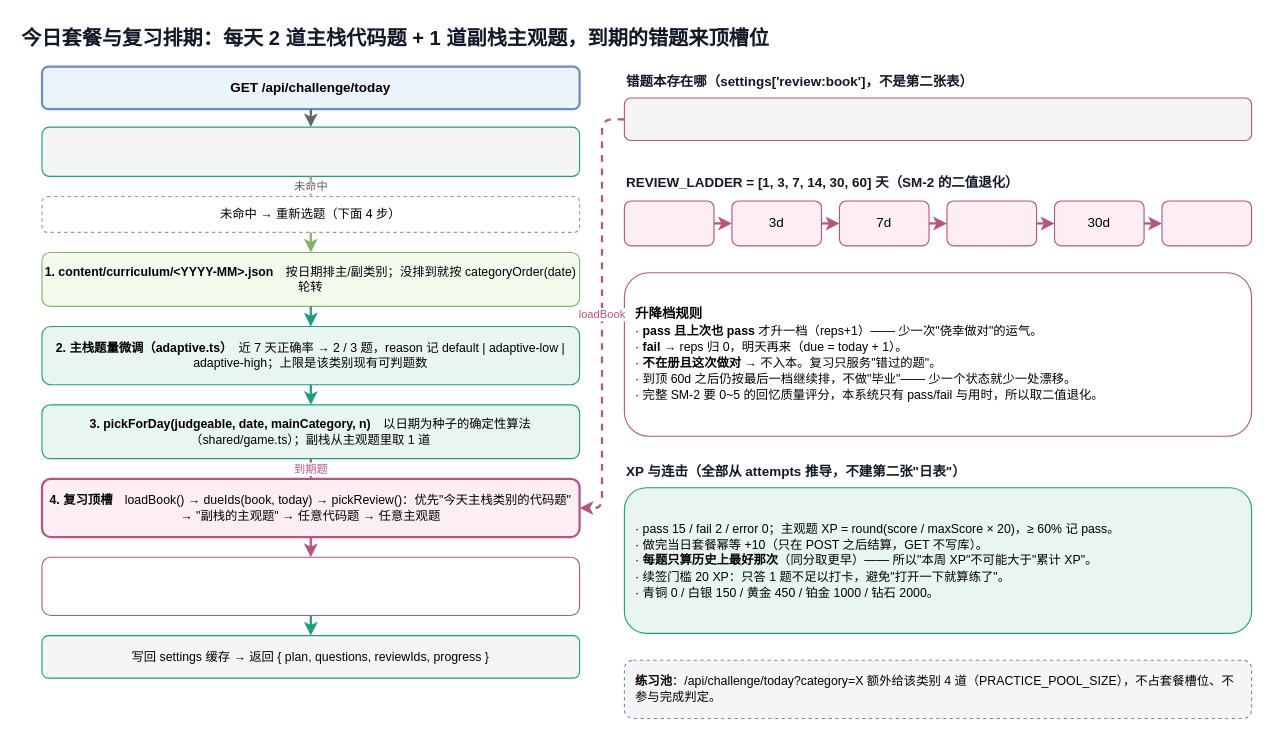
The diagram is 1271 pixels wide and 738 high, and some of its shapes have lost their labels. Here are the shapes that lost their labels. From the top down, the centre of each, then its label:
[937,119]: { version, entries: { "<questionId>": { reps, due, last, lastDay } } }
[310,151]: settings['plan:YYYY-MM-DD'] 命中且仍有效 → 直接返回（同日两次调用 deep-equal）
[668,223]: 1d
[991,223]: 14d
[1206,223]: 60d
[310,585]: 顶掉 同形态那一组 的最后一个槽位 → 槽位总数不变 → 完成判定与 XP 上限都不必改；该题 id 记进 plan.reviewIds，界面上标"复习"
